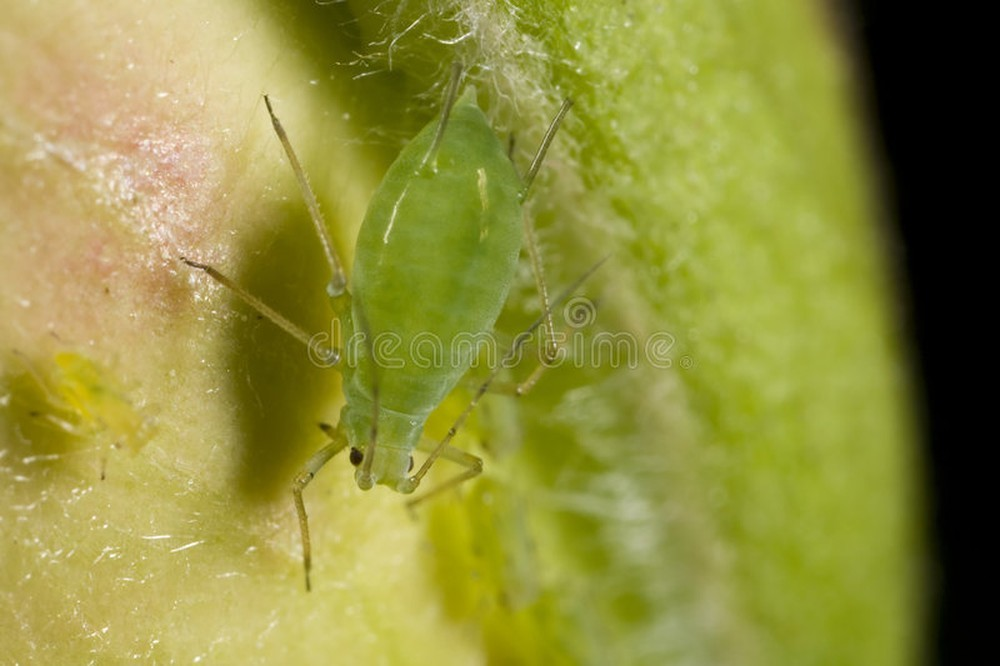Pulgon: (209, 66, 593, 562)
